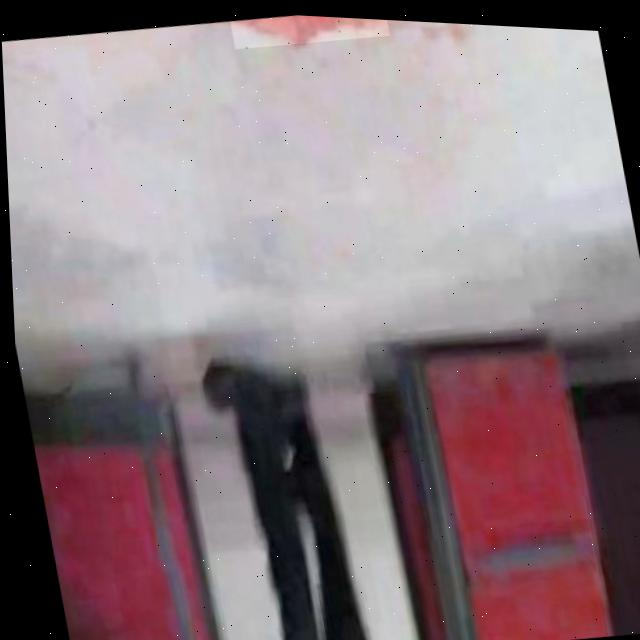spillage: (230, 12, 359, 40)
